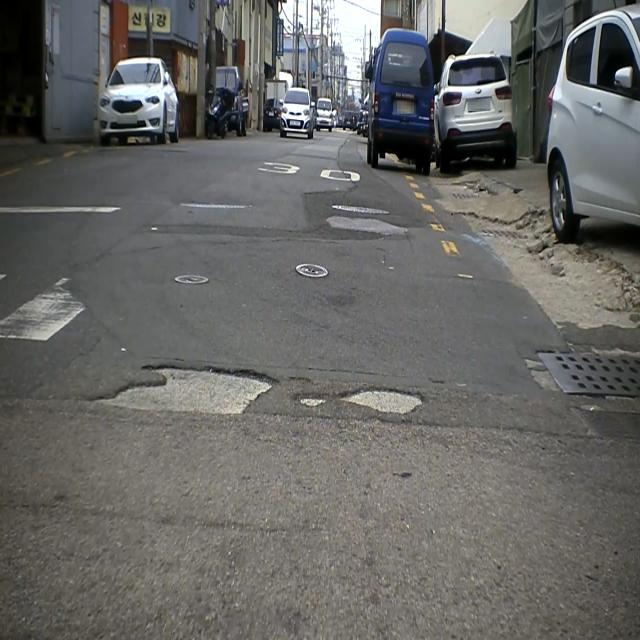Pothole: (87, 352, 281, 431), (334, 378, 433, 428), (296, 374, 330, 422)
